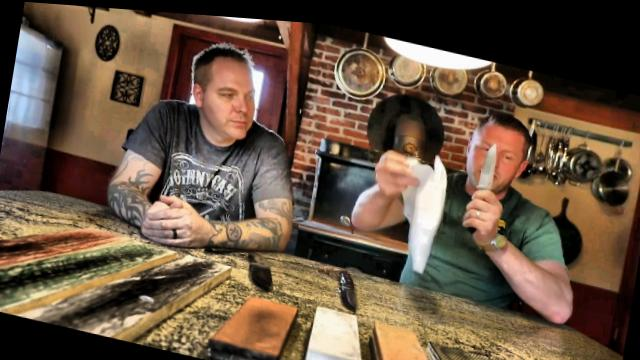knife: (466, 126, 512, 213)
